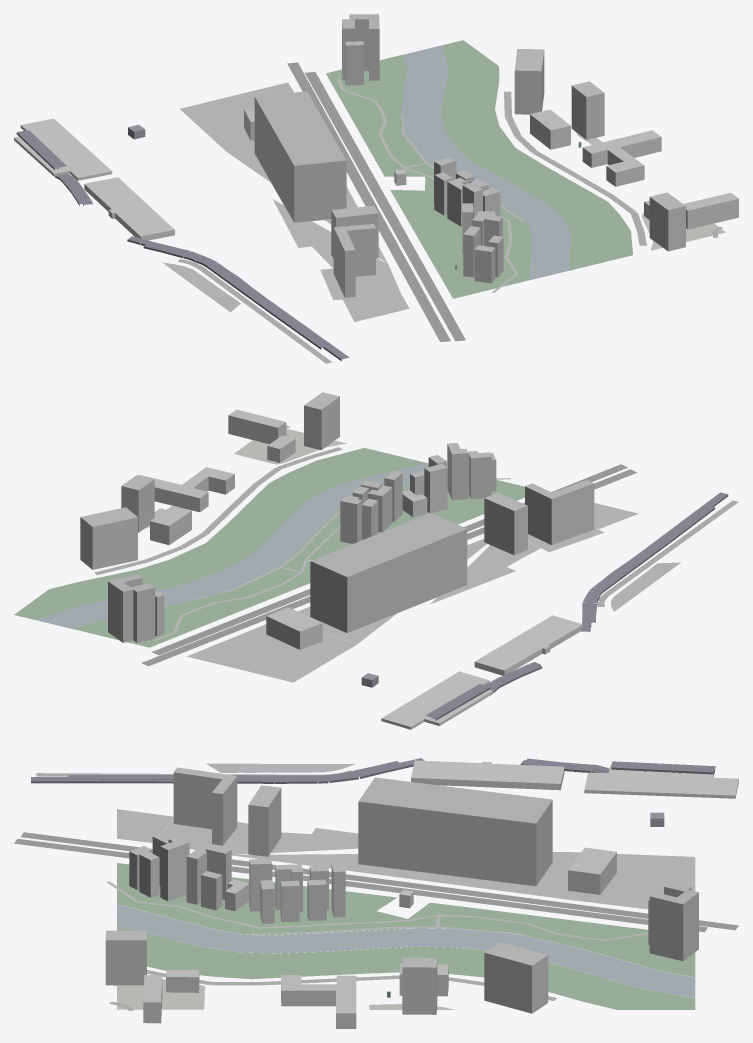
The picture shows the model from 3 angles, top to bottom: view 1: azimuth 30°, elevation 25°; view 2: azimuth 150°, elevation 25°; view 3: azimuth 270°, elevation 25°; orthographic projection. The views are drawn at different scales.
Bounding box in the file's own units: 544 × 61.4 × 626.
